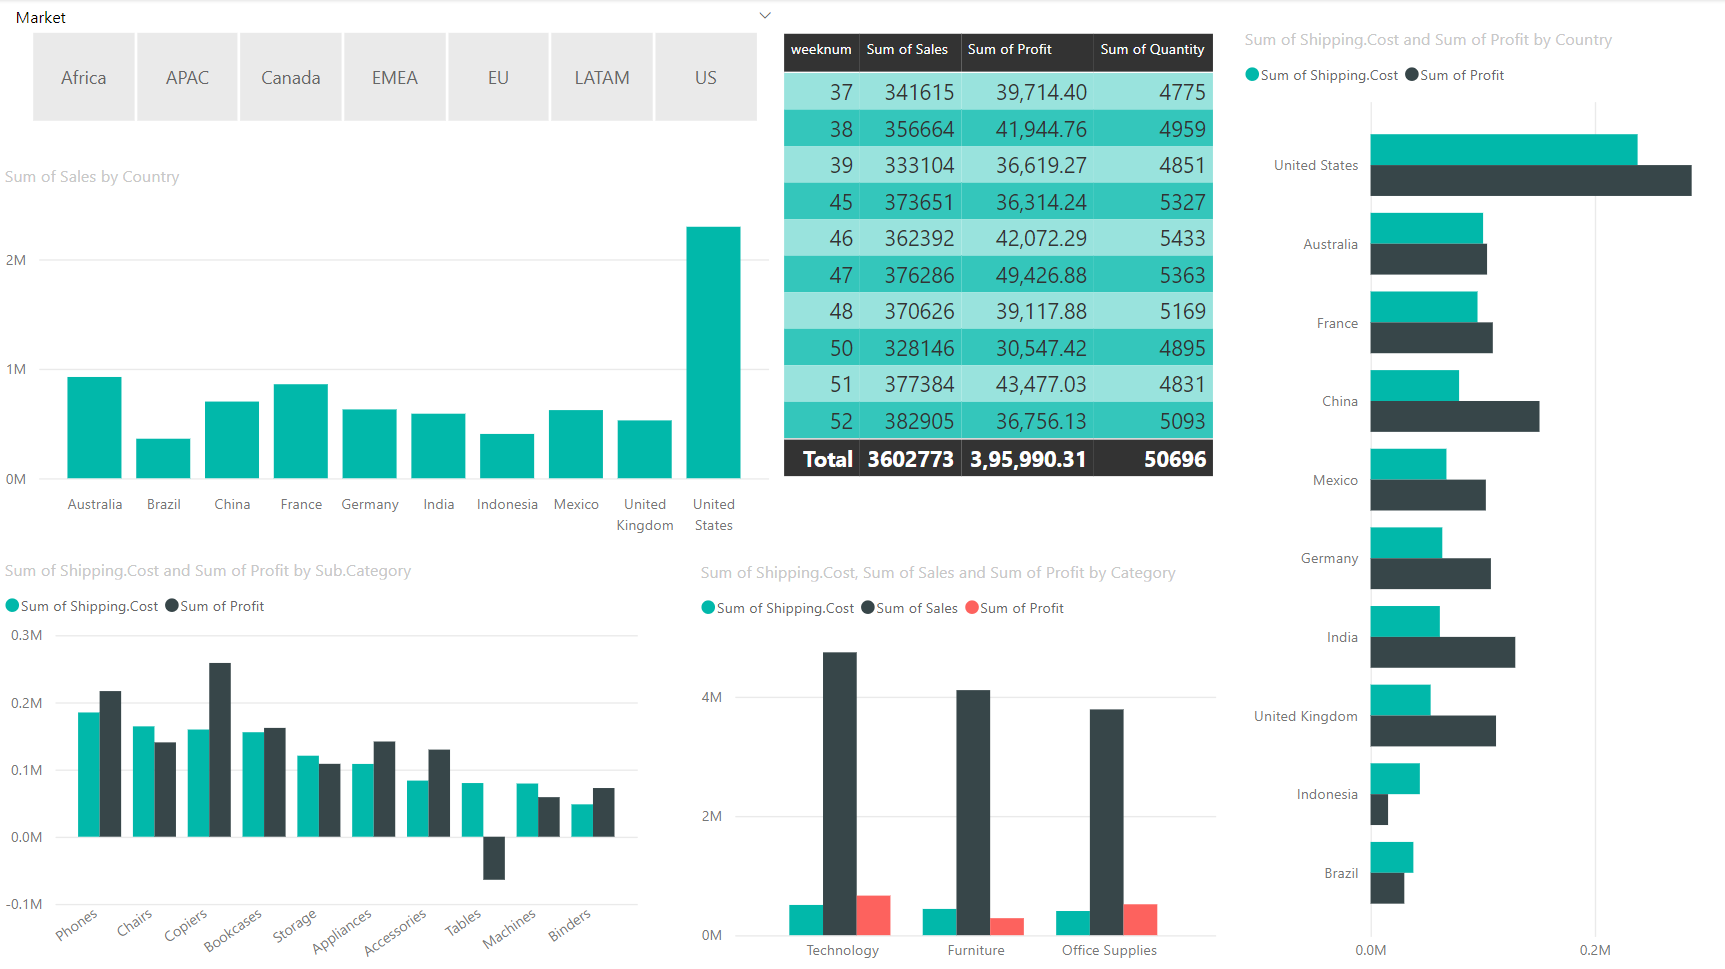

The page's visual inventory and layout, read from the dashboard file:
{"tool":"powerbi","page":{"name":"Shipping","canvas":[1280,720],"ordinal":2},"visuals":[{"type":"slicer","fields":{"Values":["superstore.Market"]},"box":[0,0,584.6,97.4],"z":0},{"type":"clusteredColumnChart","fields":{"Y":["Sum(superstore.Sales)"],"Category":["superstore.Country Hierarchy.Country","superstore.Country Hierarchy.City"]},"box":[0,122.1,575,281.3],"z":1},{"type":"lineClusteredColumnComboChart","fields":{"Category":["superstore.Category"],"Y":["Sum(superstore.Shipping.Cost)","Sum(superstore.Sales)","Sum(superstore.Profit)"]},"box":[514.6,414.4,391.1,306],"z":3},{"type":"clusteredColumnChart","fields":{"Category":["superstore.Sub.Category"],"Y":["Sum(superstore.Shipping.Cost)","Sum(superstore.Profit)"]},"box":[0,413,477.5,307.4],"z":4},{"type":"tableEx","fields":{"Values":["superstore.weeknum","Sum(superstore.Sales)","Sum(superstore.Profit)","Sum(superstore.Quantity)"]},"box":[575,20.6,330.7,349.9],"z":5},{"type":"clusteredBarChart","fields":{"Category":["superstore.Country Hierarchy.Country","superstore.Country Hierarchy.City","superstore.Country Hierarchy.State"],"Y":["Sum(superstore.Shipping.Cost)","Sum(superstore.Profit)"]},"box":[916.6,20.6,363.6,699.8],"z":6}]}

Visuals, with their boxes in screenshot pixels (x1, y1, x2, y2), scaled from the page's 1280x720 canvas onto the 1725x969 screenshot:
slicer - superstore.Market: 0 0 788 131
clusteredColumnChart - Sum(superstore.Sales) x superstore.Country Hierarchy.Country: 0 164 775 543
lineClusteredColumnComboChart - superstore.Category x Sum(superstore.Shipping.Cost): 694 558 1221 968
clusteredColumnChart - superstore.Sub.Category x Sum(superstore.Shipping.Cost): 0 556 644 968
tableEx - superstore.weeknum x Sum(superstore.Sales): 775 28 1221 499
clusteredBarChart - superstore.Country Hierarchy.Country x superstore.Country Hierarchy.City: 1235 28 1724 968
